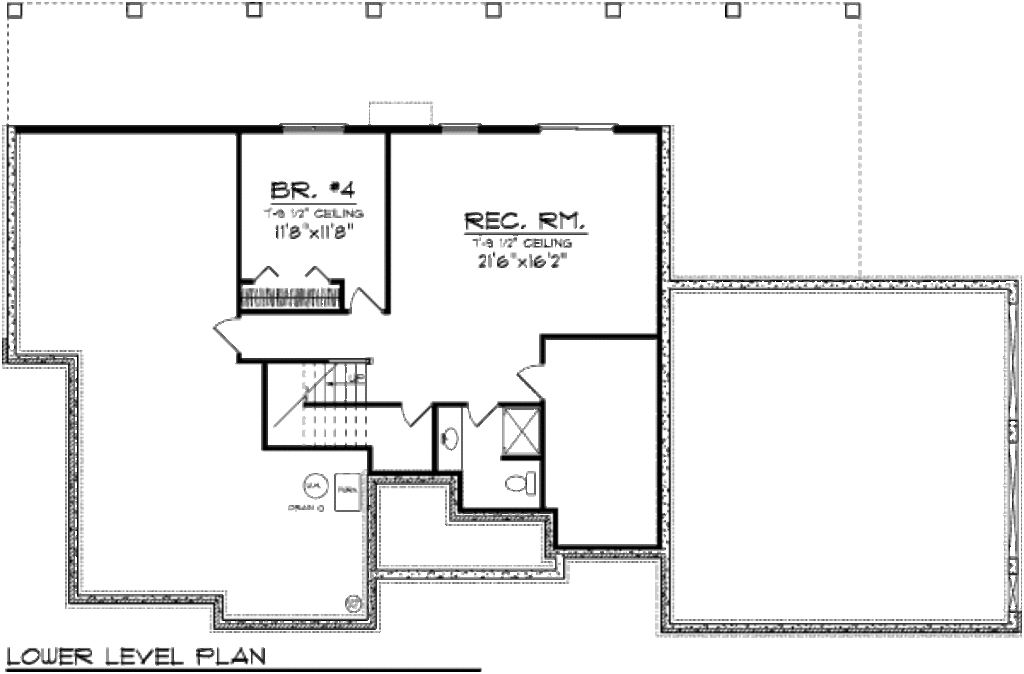door: (505, 358, 546, 398), (209, 314, 250, 352), (350, 282, 378, 311), (400, 406, 428, 429), (470, 405, 497, 428)
large_sink: (499, 460, 540, 501)
small_sink: (440, 408, 463, 469)
stairs: (297, 357, 381, 445)
window: (542, 120, 615, 135), (278, 121, 347, 134), (439, 119, 479, 133)
